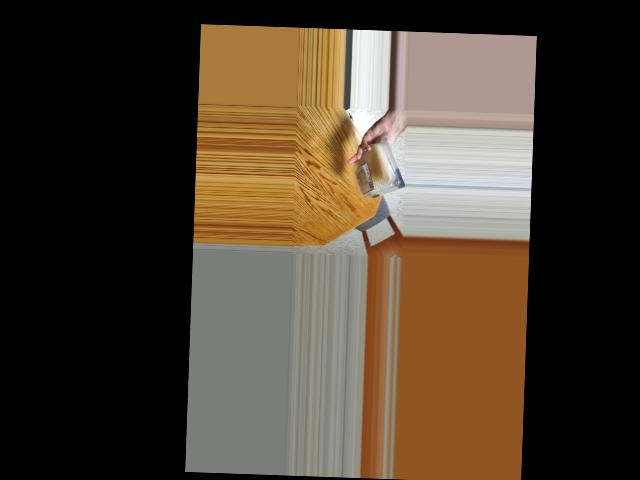cheese: (353, 142, 402, 199)
